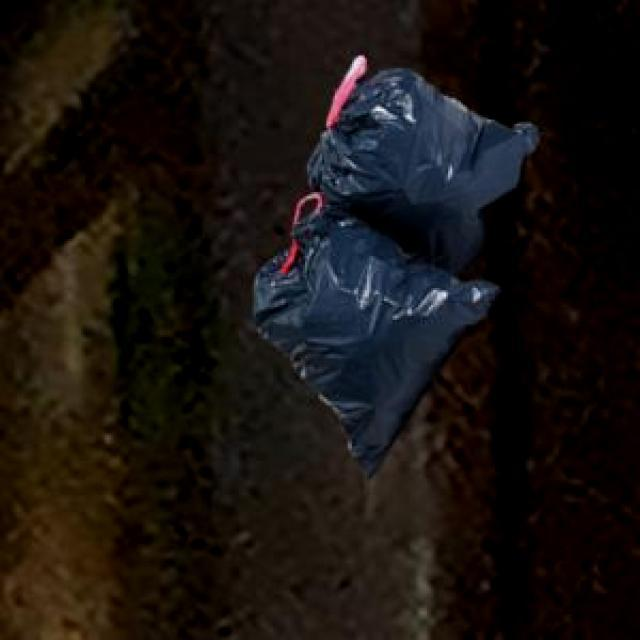Trashbag: (237, 227, 490, 476), (303, 63, 549, 249)
